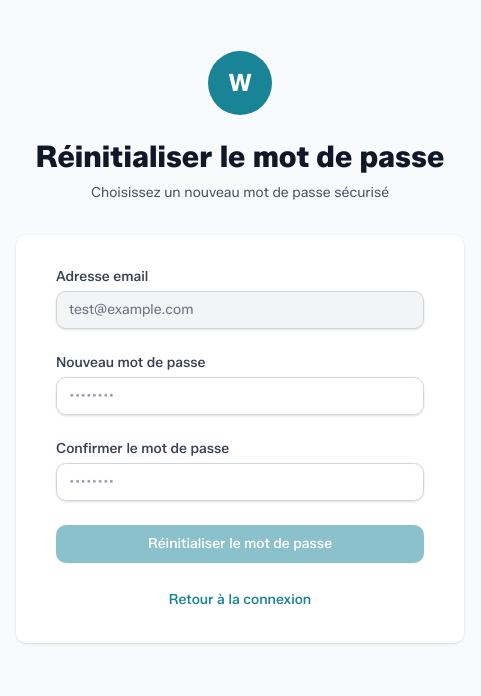
it: ResetPasswordPage › displays error message for invalid token
The width and height of the screenshot is (481, 696).
In the password field with test id "password-input": (240, 396) [56, 377, 424, 415], type "NewPassword1"
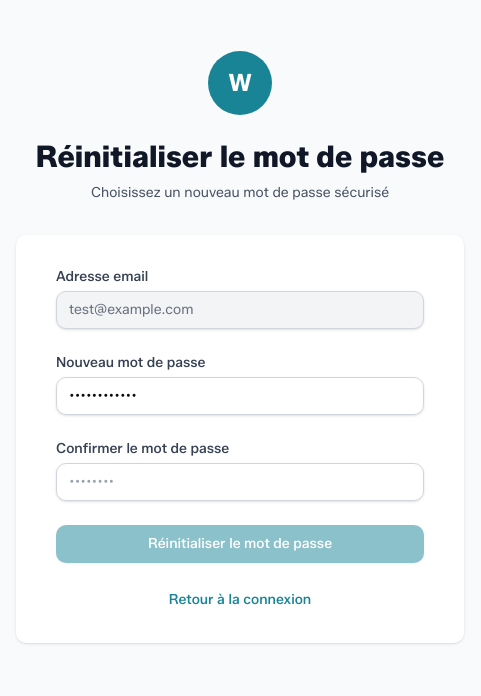
In the password field with test id "password-confirmation-input": (240, 482) [56, 463, 424, 501], type "NewPassword1"
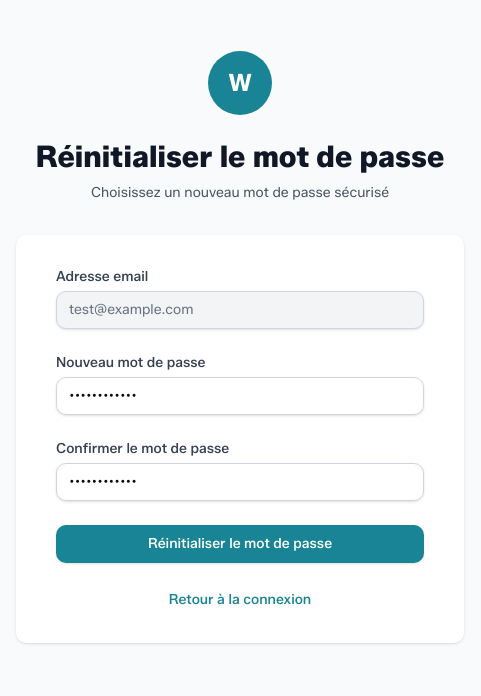
Submit the form, box [56, 267, 424, 563]
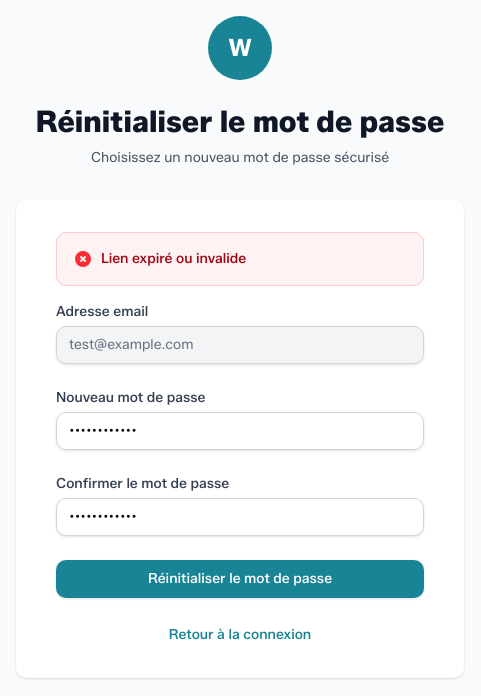
Expected: the element with test id "error-message" is shown, [56, 232, 424, 286]
Expected: the element with test id "error-message" reads "Lien expiré ou invalide", [101, 250, 246, 267]
